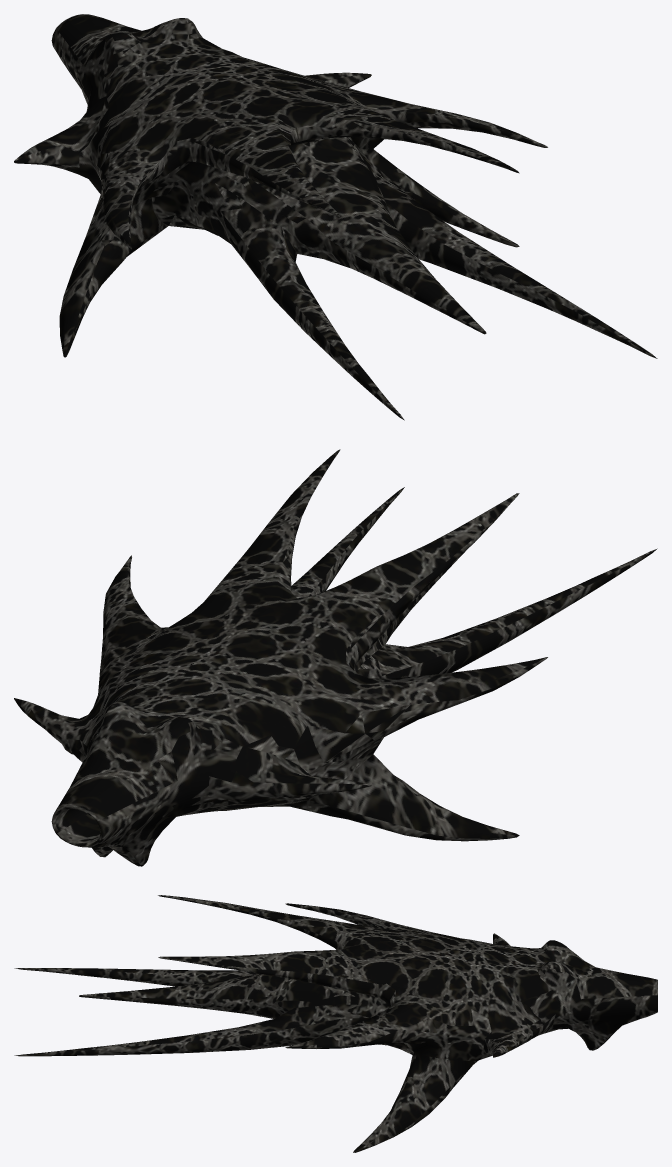
The model's file is spitfire.glb.
3 renders of one model, top to bottom at view 1: azimuth 30°, elevation 25°; view 2: azimuth 150°, elevation 25°; view 3: azimuth 270°, elevation 25°, orthographic. The views are drawn at different scales.
Visible parts, largest first — view 1: 1_270_scale_Shadow_Fighter; view 2: 1_270_scale_Shadow_Fighter; view 3: 1_270_scale_Shadow_Fighter.
Boxes of the visible parts, x1=… form: 1_270_scale_Shadow_Fighter: x1=14, y1=14, x2=657, y2=420; 1_270_scale_Shadow_Fighter: x1=14, y1=449, x2=657, y2=866; 1_270_scale_Shadow_Fighter: x1=14, y1=895, x2=657, y2=1152.
Size of the model in its own units: 32.75 by 14.44 by 56.66.
Materials: 1 (1 with a texture image).
